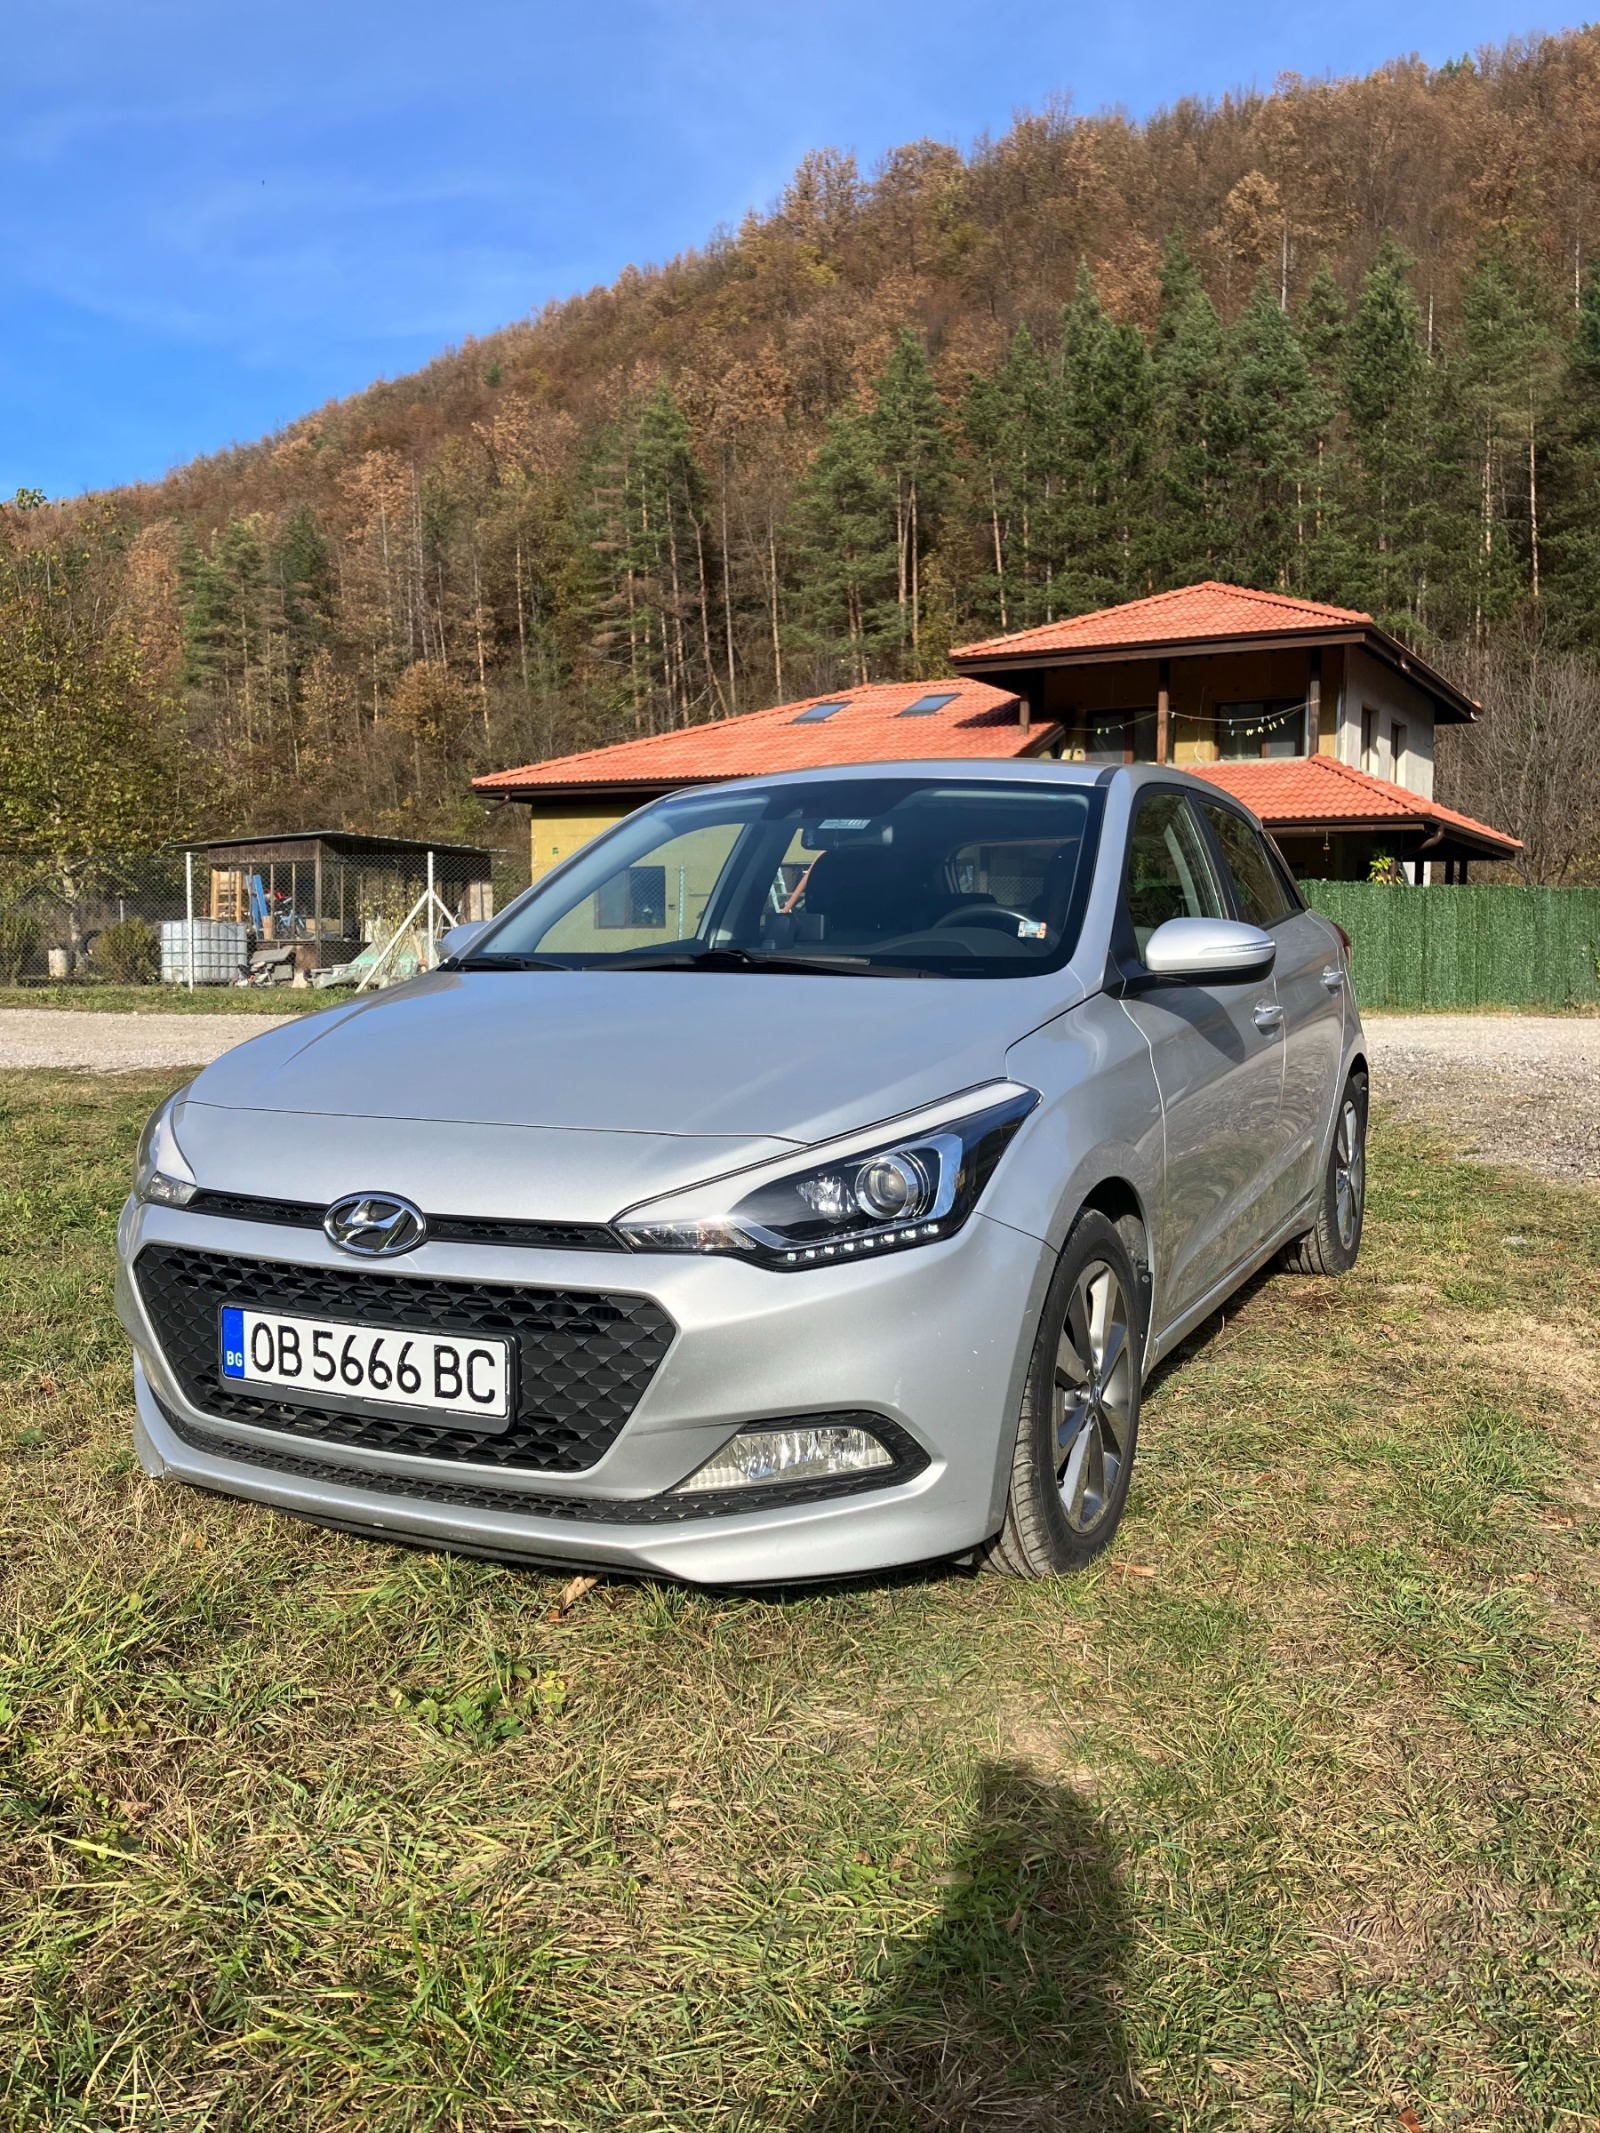registration_plate: (229, 1312, 522, 1438)
